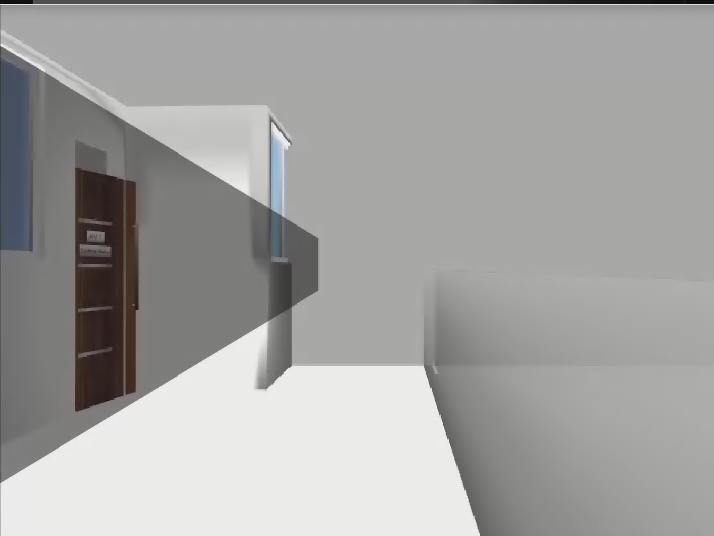door: (76, 169, 138, 412)
